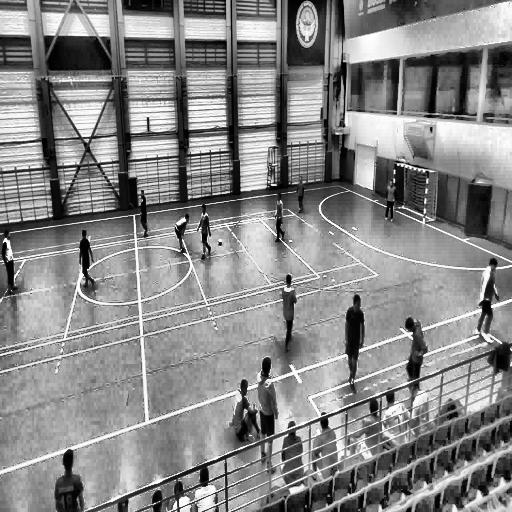ball: (217, 237, 224, 247)
player: (256, 355, 278, 467), (344, 294, 365, 392), (475, 256, 499, 340), (405, 315, 427, 384), (281, 272, 296, 353), (0, 229, 18, 292), (79, 229, 95, 289), (198, 202, 212, 260), (272, 193, 286, 243), (174, 213, 189, 255), (383, 178, 396, 222), (139, 190, 150, 238), (296, 176, 305, 214)
